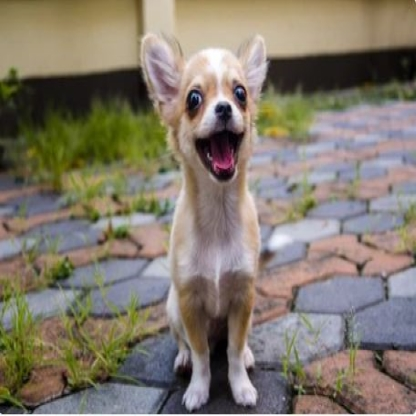chihuahua: (138, 30, 270, 411)
